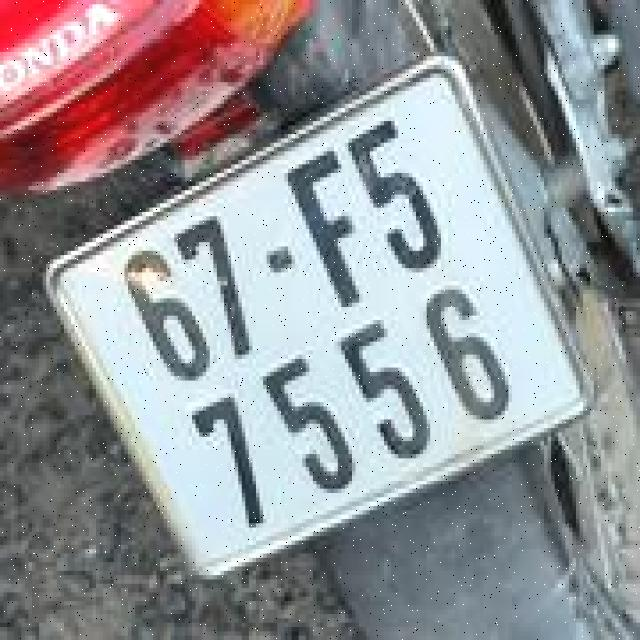5: (337, 101, 461, 290), (331, 306, 448, 476), (254, 337, 371, 503)
6: (402, 267, 531, 450), (112, 225, 225, 395)
7: (162, 196, 277, 375), (178, 380, 288, 544)
F: (272, 139, 397, 323)
